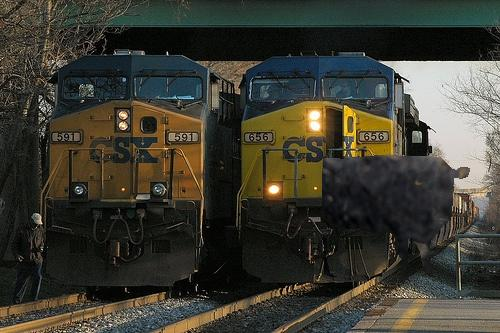tampered: (322, 156, 470, 286)
